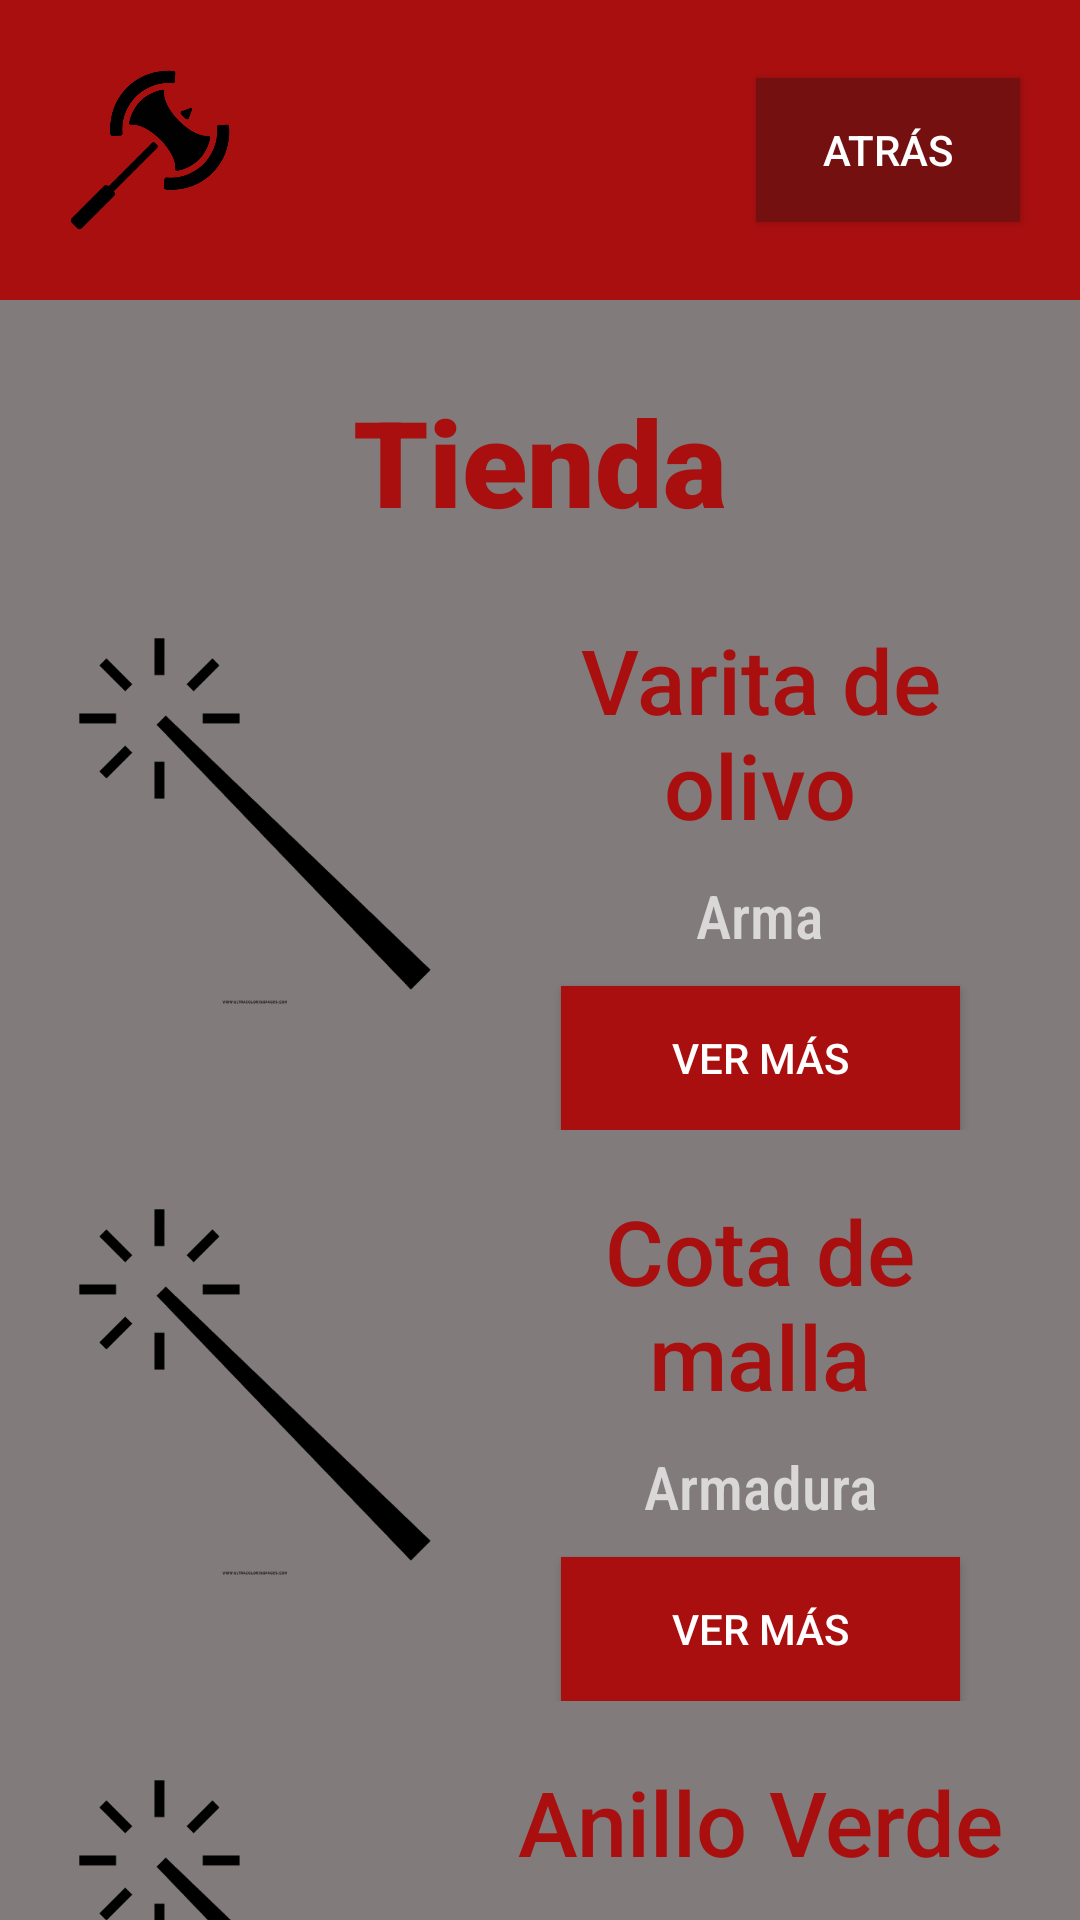

Point at icon controls on the screen. Image size 1080*1920, points as (x=x, y=y).
rolgameicon: (x=150, y=150)
